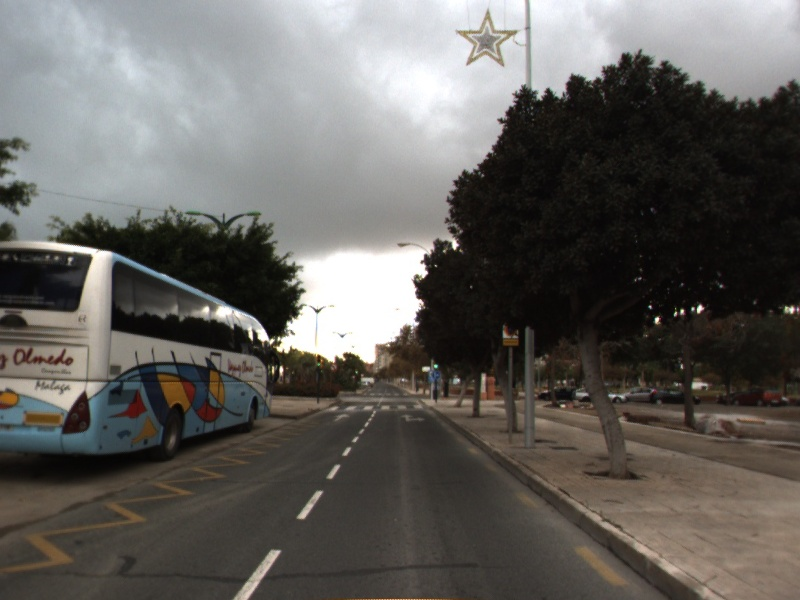STRAIGHT: (330, 412, 352, 424)
STRAIGHT_RIGHT: (397, 412, 428, 426)
